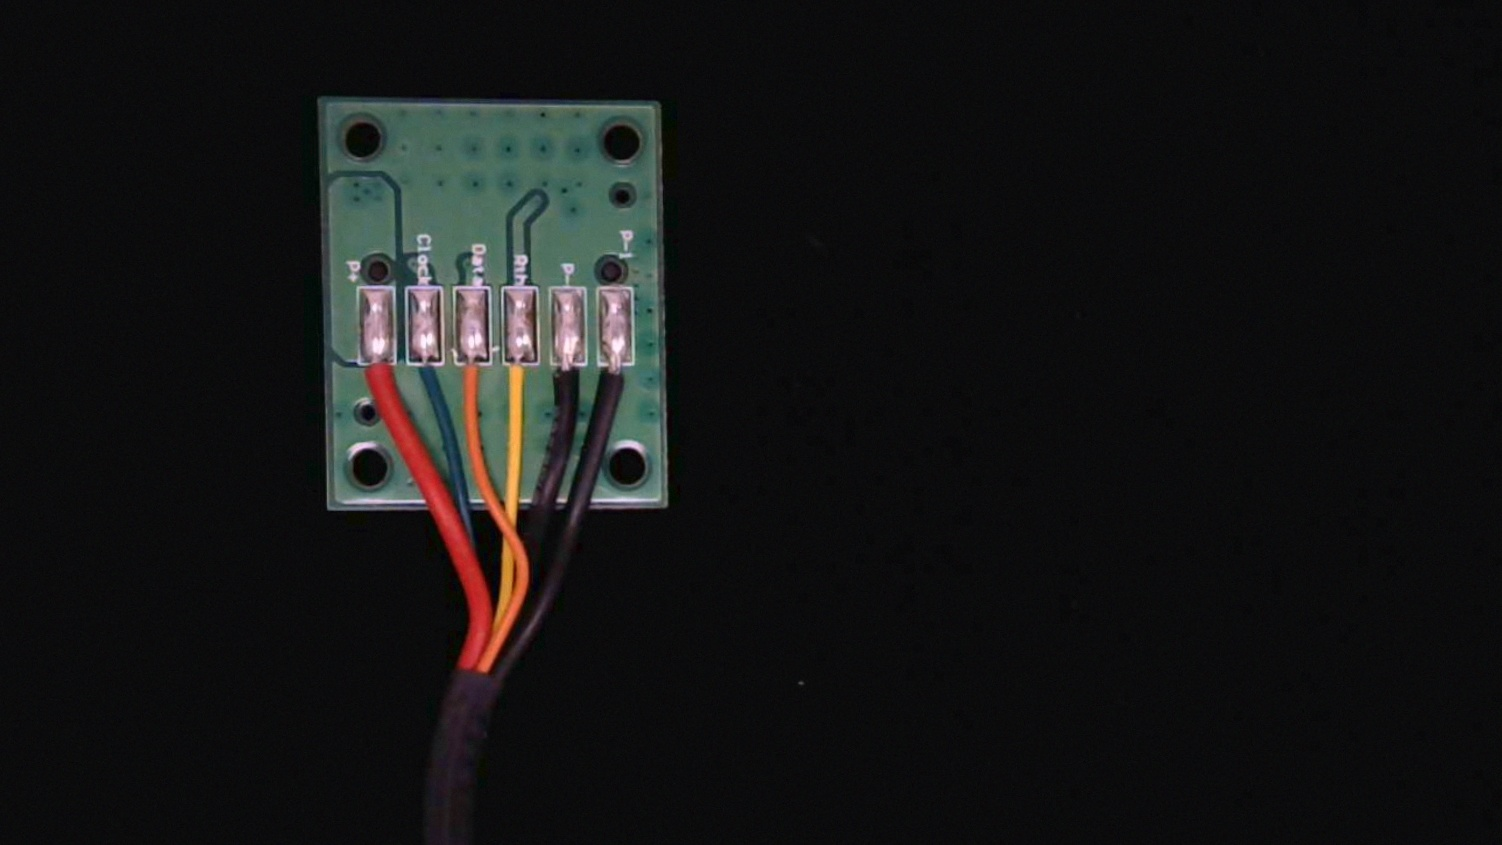Black: (547, 347, 587, 433)
Black1: (594, 348, 635, 427)
Green: (406, 347, 448, 418)
Orange: (452, 345, 492, 421)
Red: (357, 345, 400, 422)
Yellow: (498, 346, 538, 427)
